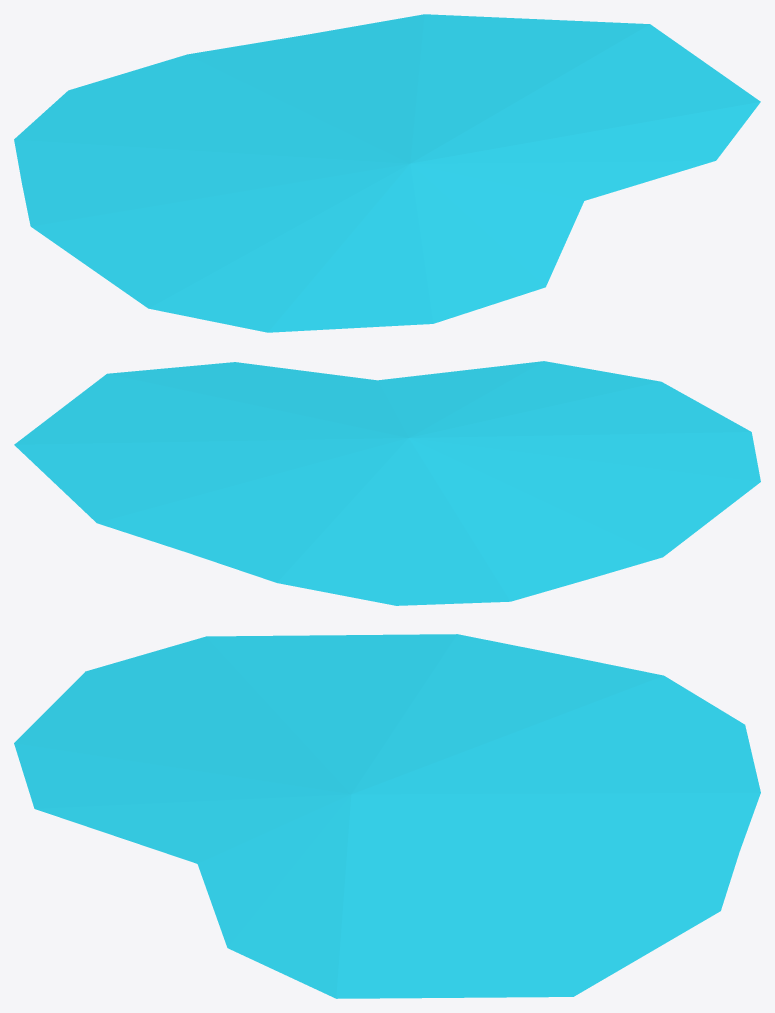
File: kubangan_air.fbx
3 views of the same model, one above another, from view 1: azimuth 30°, elevation 25°; view 2: azimuth 150°, elevation 25°; view 3: azimuth 270°, elevation 25° (orthographic). The views are drawn at different scales.
Parts seen in each view (by area): view 1: Circle; view 2: Circle; view 3: Circle.
Boxes of the visible parts, x1,y1,x2,y2 form: Circle: (14,14,760,332); Circle: (14,361,760,605); Circle: (14,634,760,998).
Bounding box in the file's own units: 213 × 5.14 × 184.
